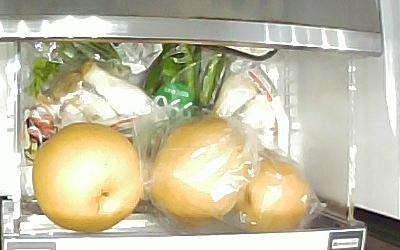pear: (33, 122, 141, 234)
pear_vinyl: (149, 118, 246, 227), (235, 159, 309, 231)
